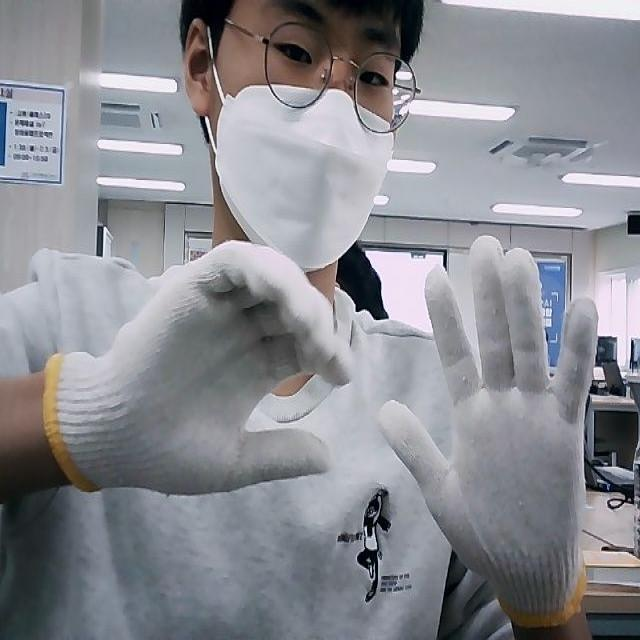Guantes: (378, 234, 599, 627), (40, 236, 352, 500)
